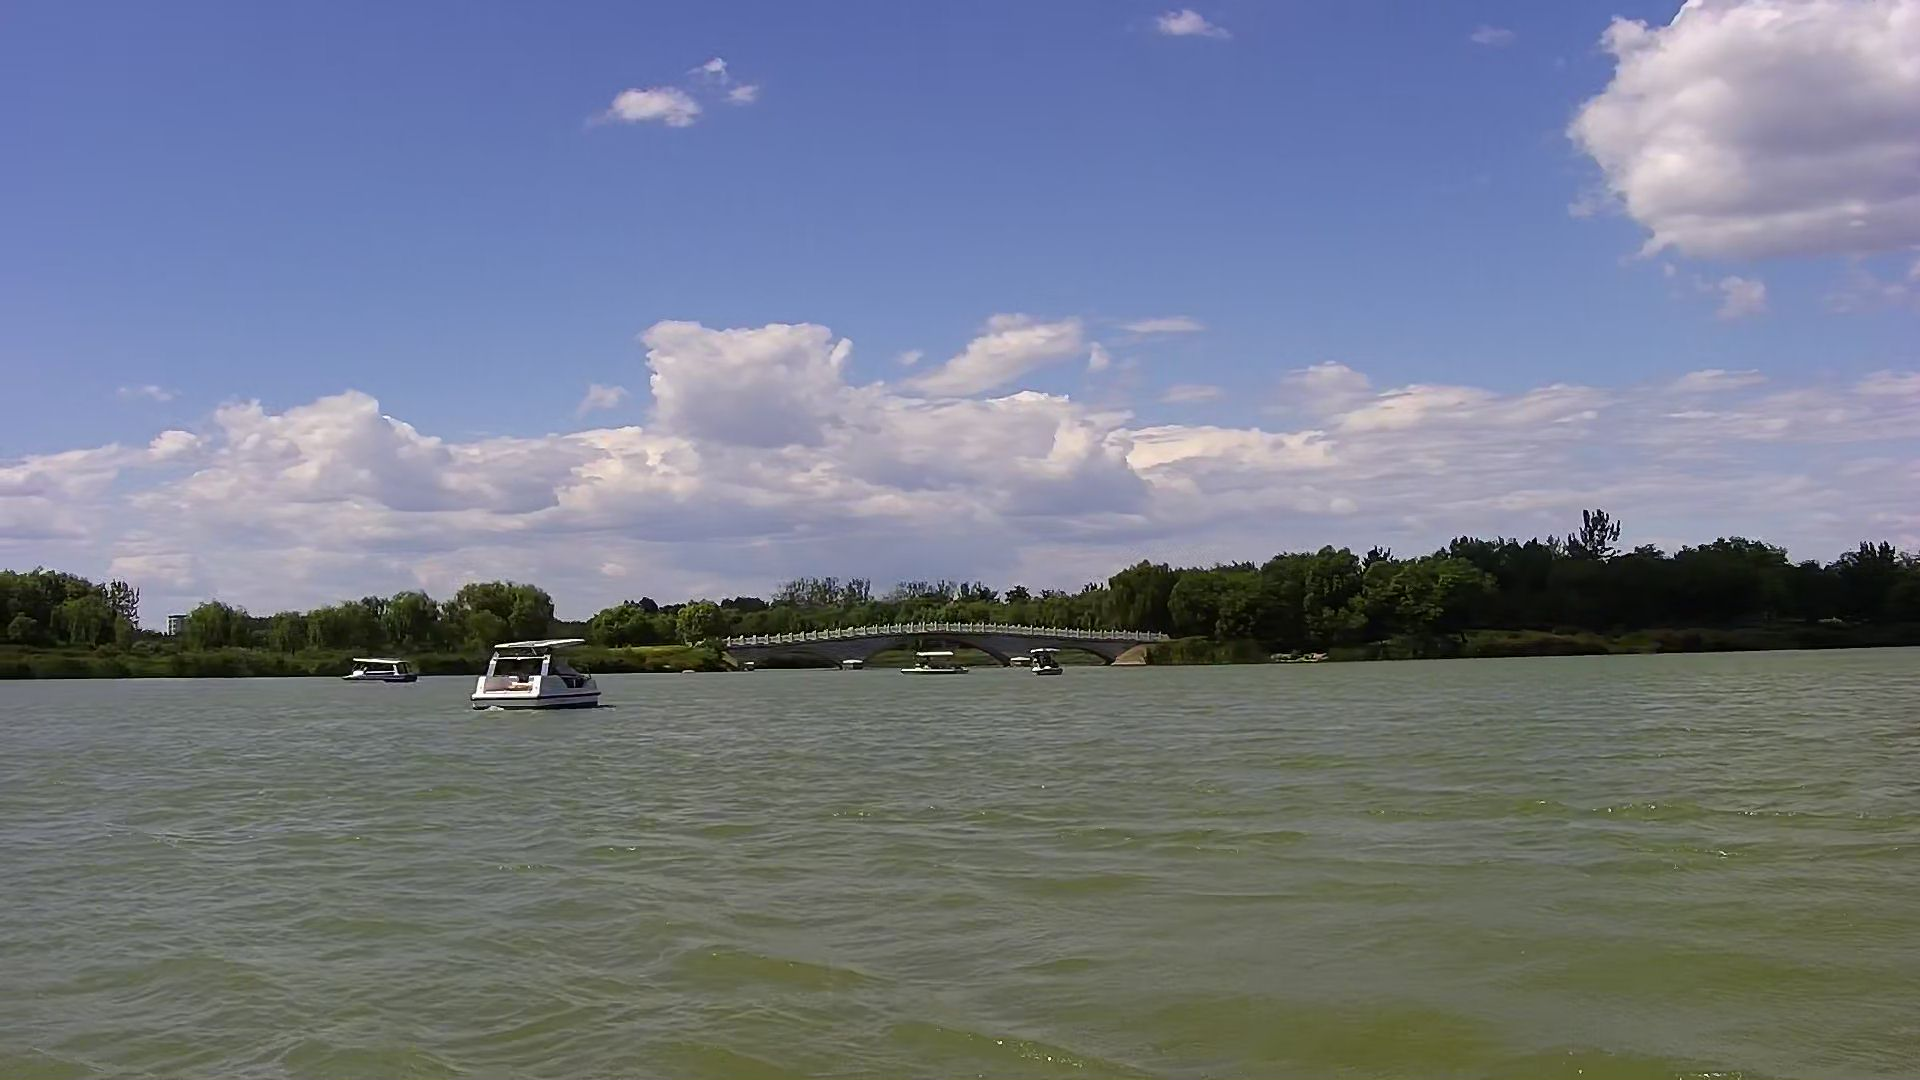boat: (467, 637, 605, 713), (349, 653, 429, 684), (905, 644, 971, 680), (1023, 644, 1073, 682)
bridge: (738, 611, 1114, 680), (729, 618, 1160, 673)
